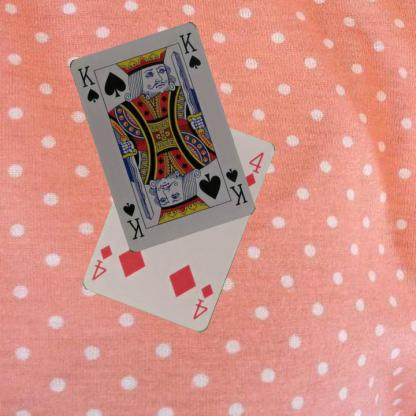4d: (190, 282, 215, 322)
Ks: (222, 165, 249, 207), (74, 62, 100, 104)
